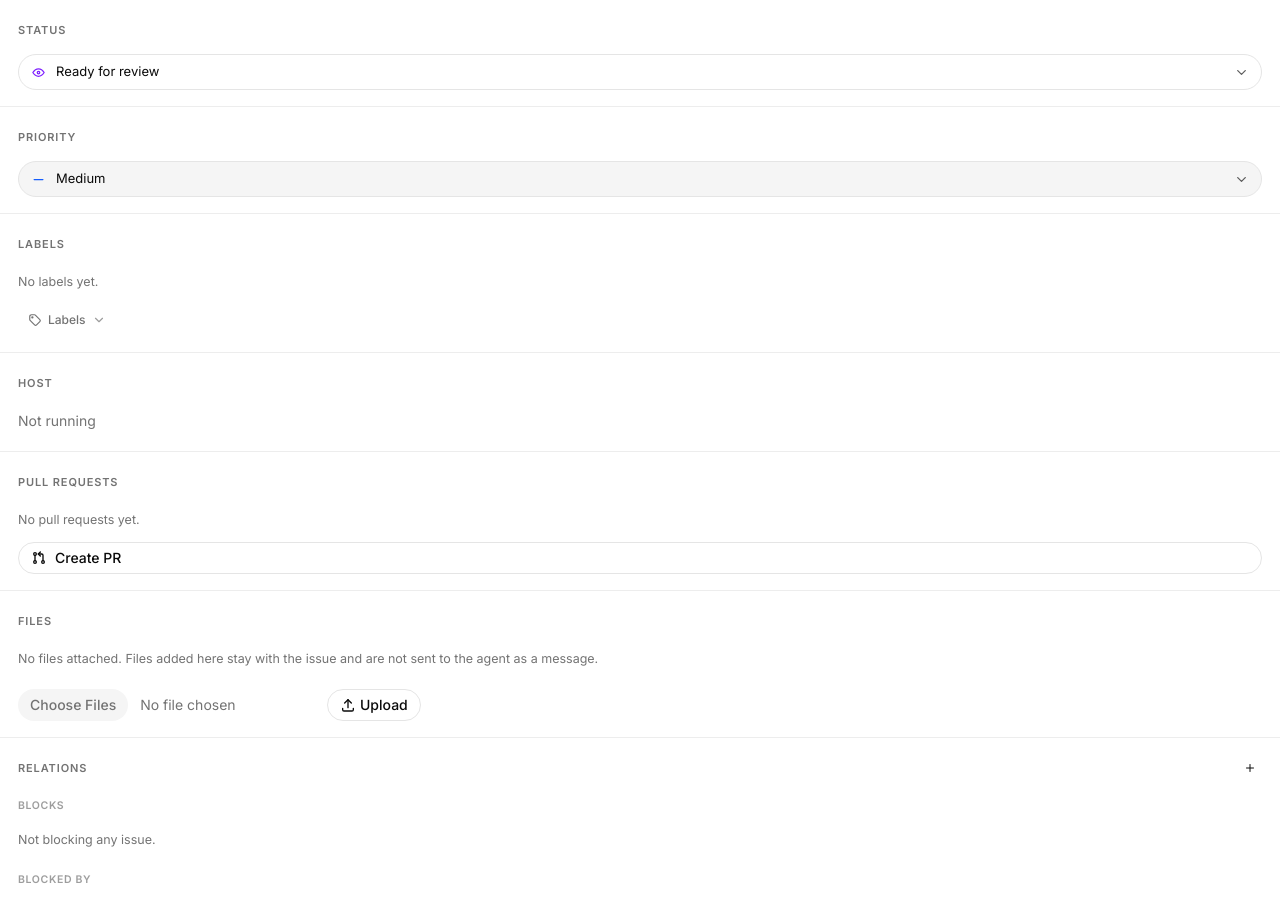
IssueDetailRail manual Create PR › prevents duplicate clicks while the request is pending
Double-click the button "Create PR" at (88, 558), box [18,542,1262,574]
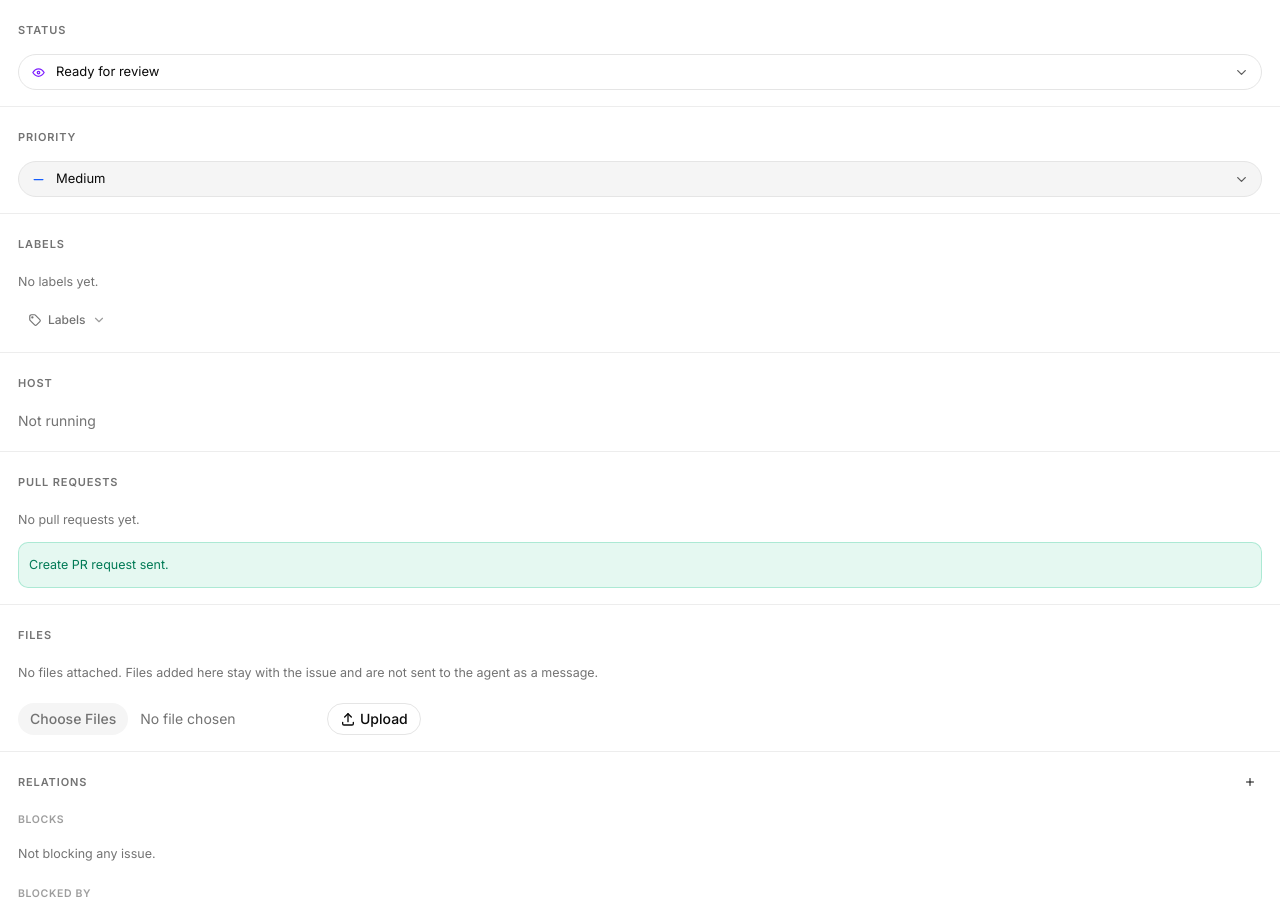
Check: the text "Requesting pull request..." is shown, box [18,542,1262,588]
